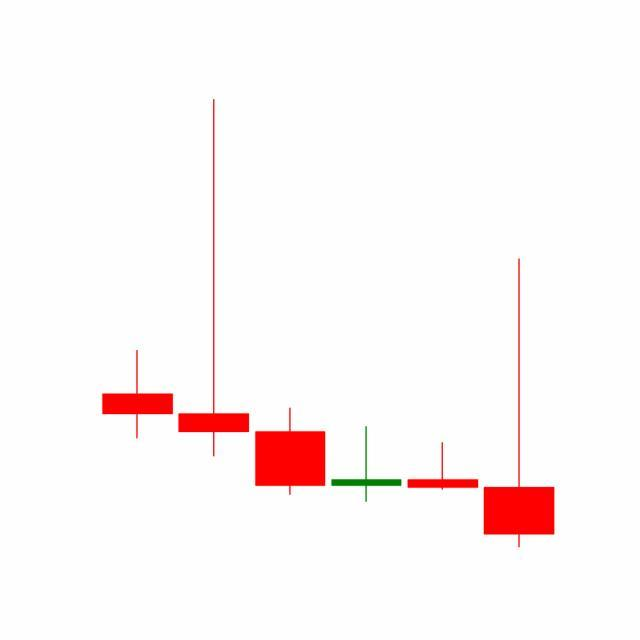Gravestone Doji: (404, 442, 482, 492)
